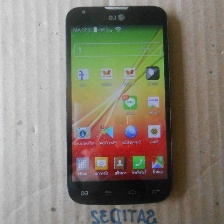phone: (62, 3, 177, 207)
